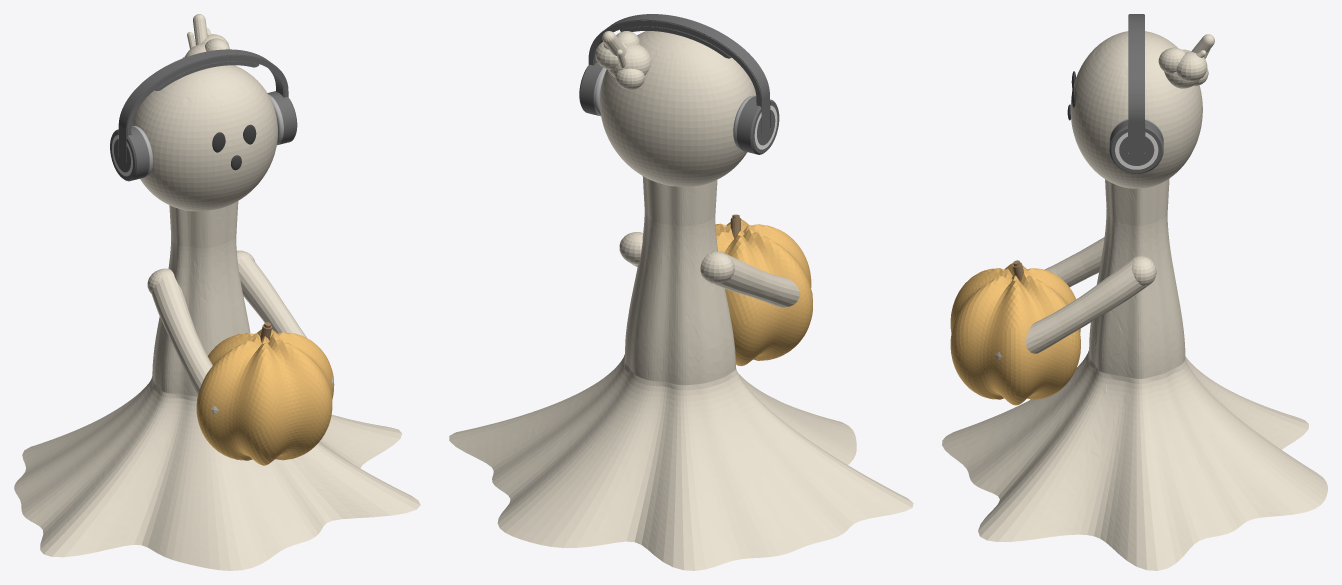
The picture shows the model from 3 angles, left to right: view 1: azimuth 30°, elevation 25°; view 2: azimuth 150°, elevation 25°; view 3: azimuth 270°, elevation 25°; orthographic projection. The views are drawn at different scales.
Parts seen in each view (by area): view 1: ghost_display_figure (not printed), pumpkin (not printed), headphones_charcoal; view 2: ghost_display_figure (not printed), pumpkin (not printed), headphones_charcoal; view 3: ghost_display_figure (not printed), pumpkin (not printed), headphones_charcoal.
Part boxes in pixels (x1,y1,x2,y2): ghost_display_figure (not printed): (14, 14, 420, 570); pumpkin (not printed): (196, 329, 334, 465); headphones_charcoal: (110, 49, 297, 181); ghost_display_figure (not printed): (449, 31, 913, 570); pumpkin (not printed): (715, 219, 812, 365); headphones_charcoal: (579, 14, 779, 154); ghost_display_figure (not printed): (942, 31, 1327, 570); pumpkin (not printed): (950, 263, 1080, 405); headphones_charcoal: (1109, 14, 1163, 173).
Size of the model in its own units: 223 by 238 by 185.
